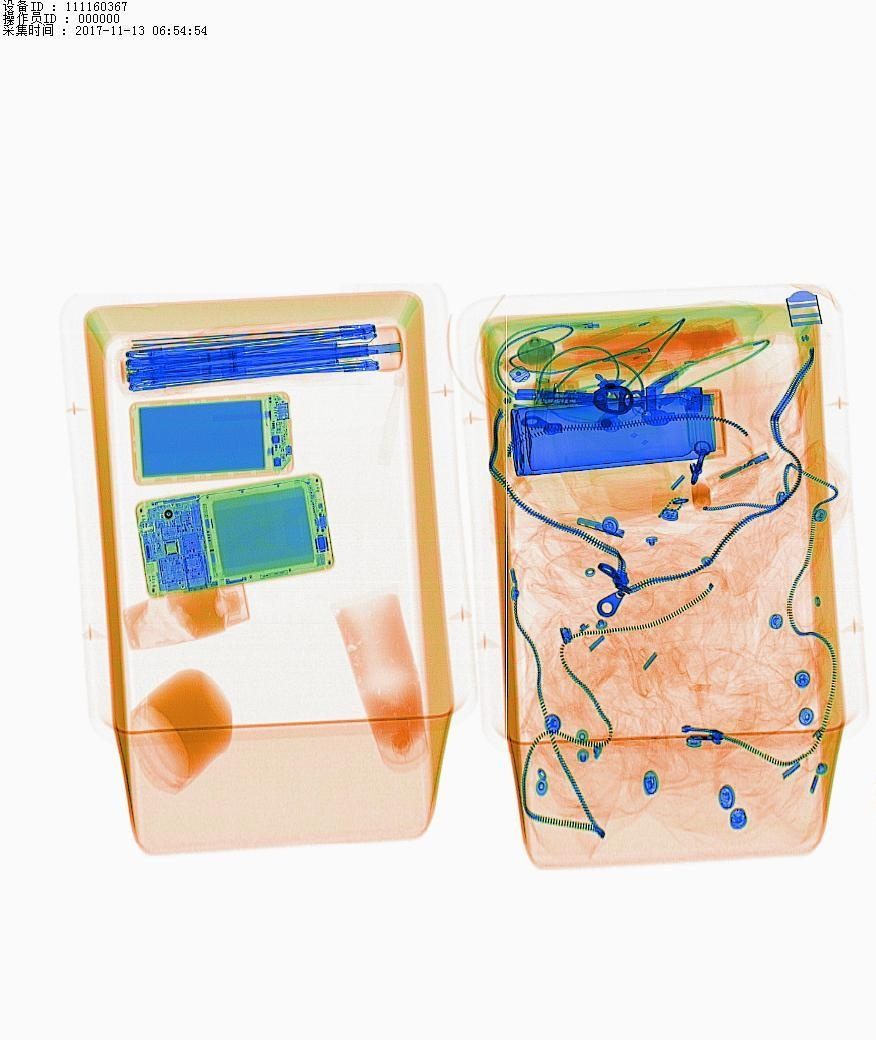coreless: (136, 409, 293, 463)
